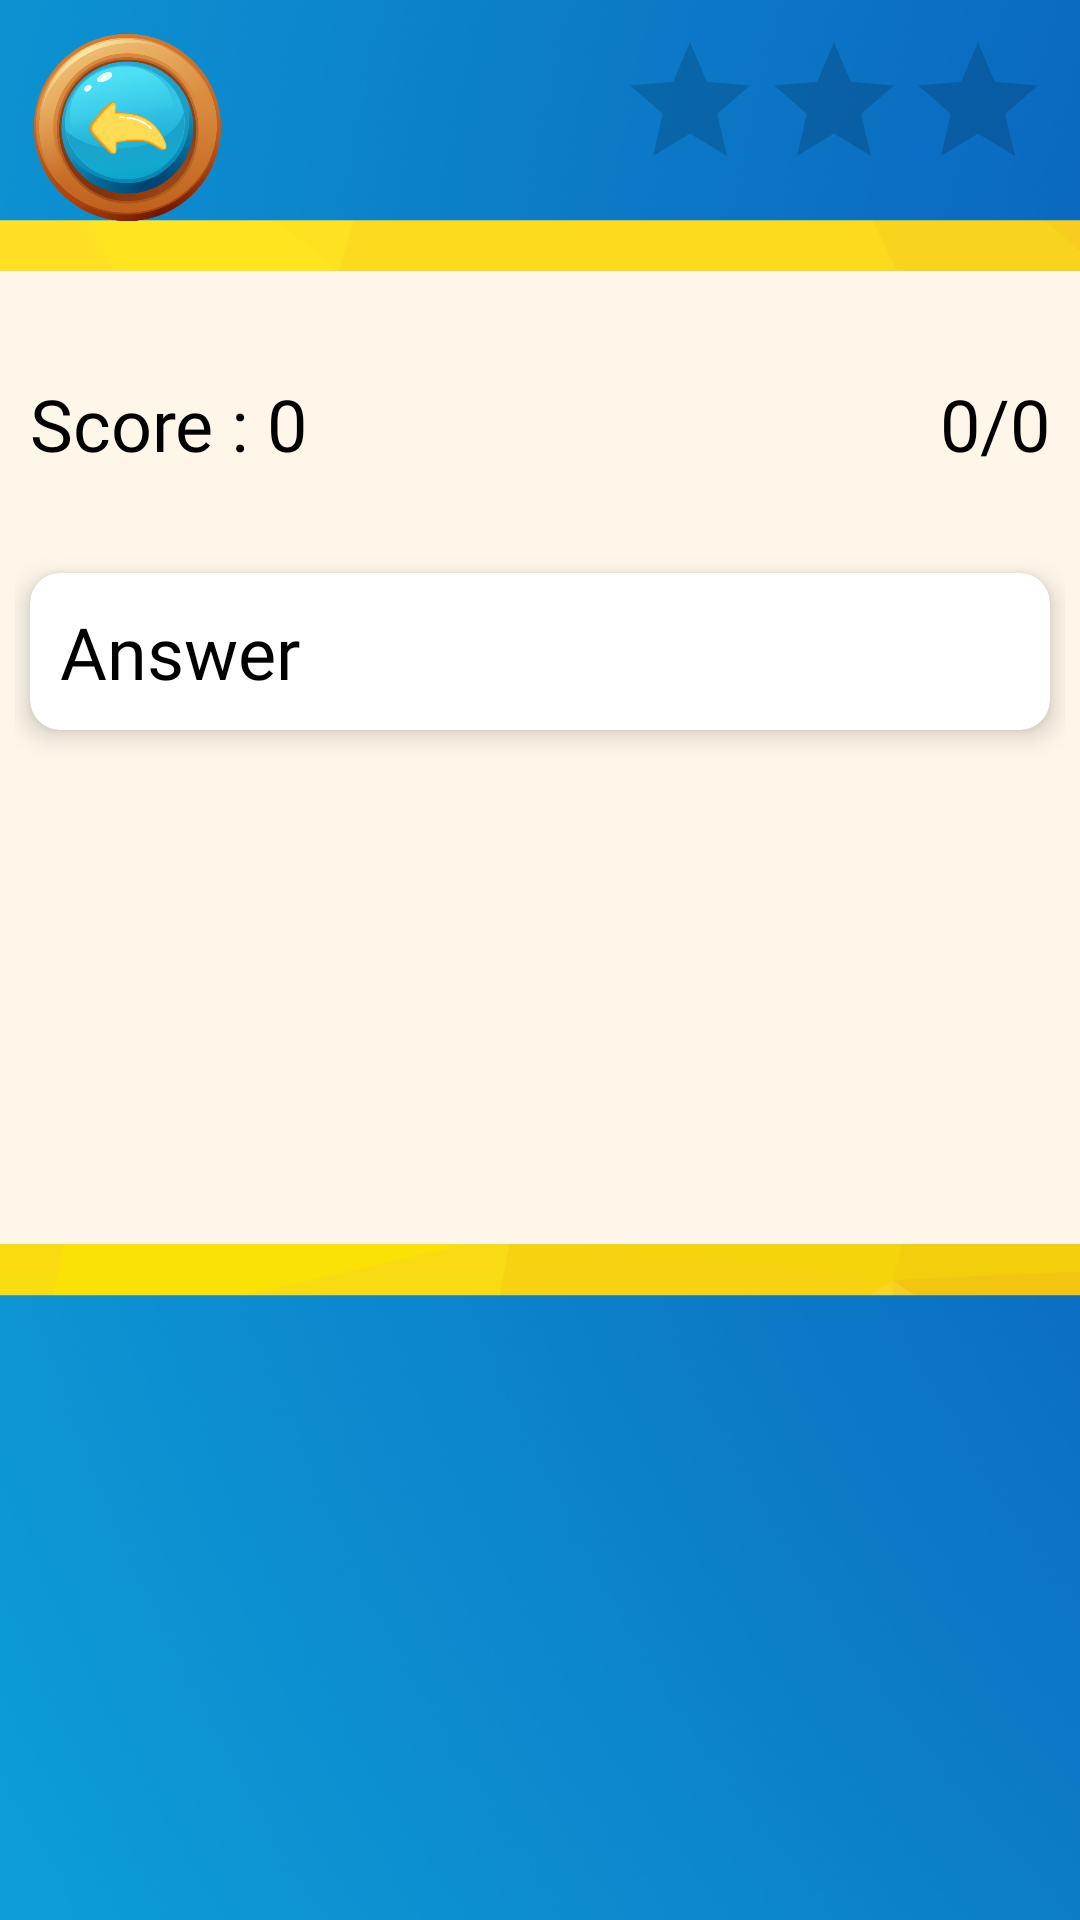

Icon bounding boxes for this 1080px×1920px phone screenshot, format [x1=x1, y1=y1, x2=x2, y2=y2]:
back: [x1=30, y1=34, x2=225, y2=225]
